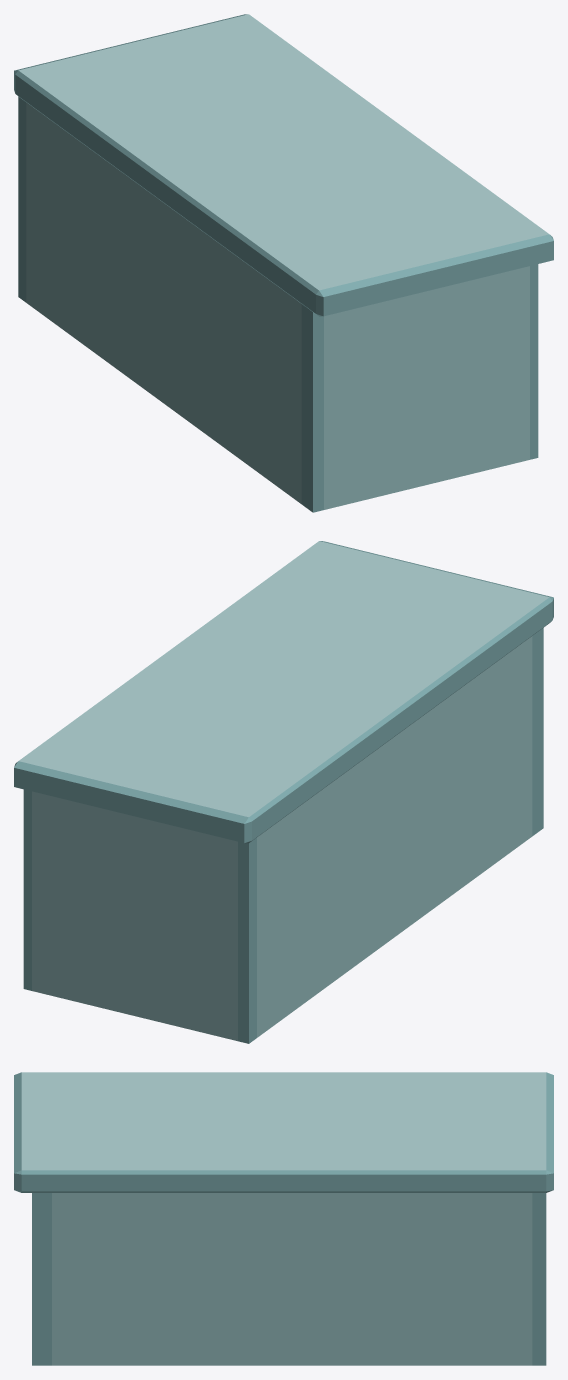
File: counter.fbx
The picture shows the model from 3 angles, top to bottom: view 1: azimuth 30°, elevation 25°; view 2: azimuth 150°, elevation 25°; view 3: azimuth 270°, elevation 25°; orthographic projection. The views are drawn at different scales.
Parts seen in each view (by area): view 1: Cube, Cube.001; view 2: Cube, Cube.001; view 3: Cube, Cube.001.
Boxes of the visible parts, bbox=[...] form: Cube: bbox=[18, 96, 538, 512]; Cube.001: bbox=[14, 14, 553, 316]; Cube: bbox=[23, 628, 543, 1043]; Cube.001: bbox=[14, 541, 553, 843]; Cube: bbox=[32, 1193, 546, 1365]; Cube.001: bbox=[14, 1072, 553, 1192].
Size of the model in its own units: 608 by 556 by 1377.
